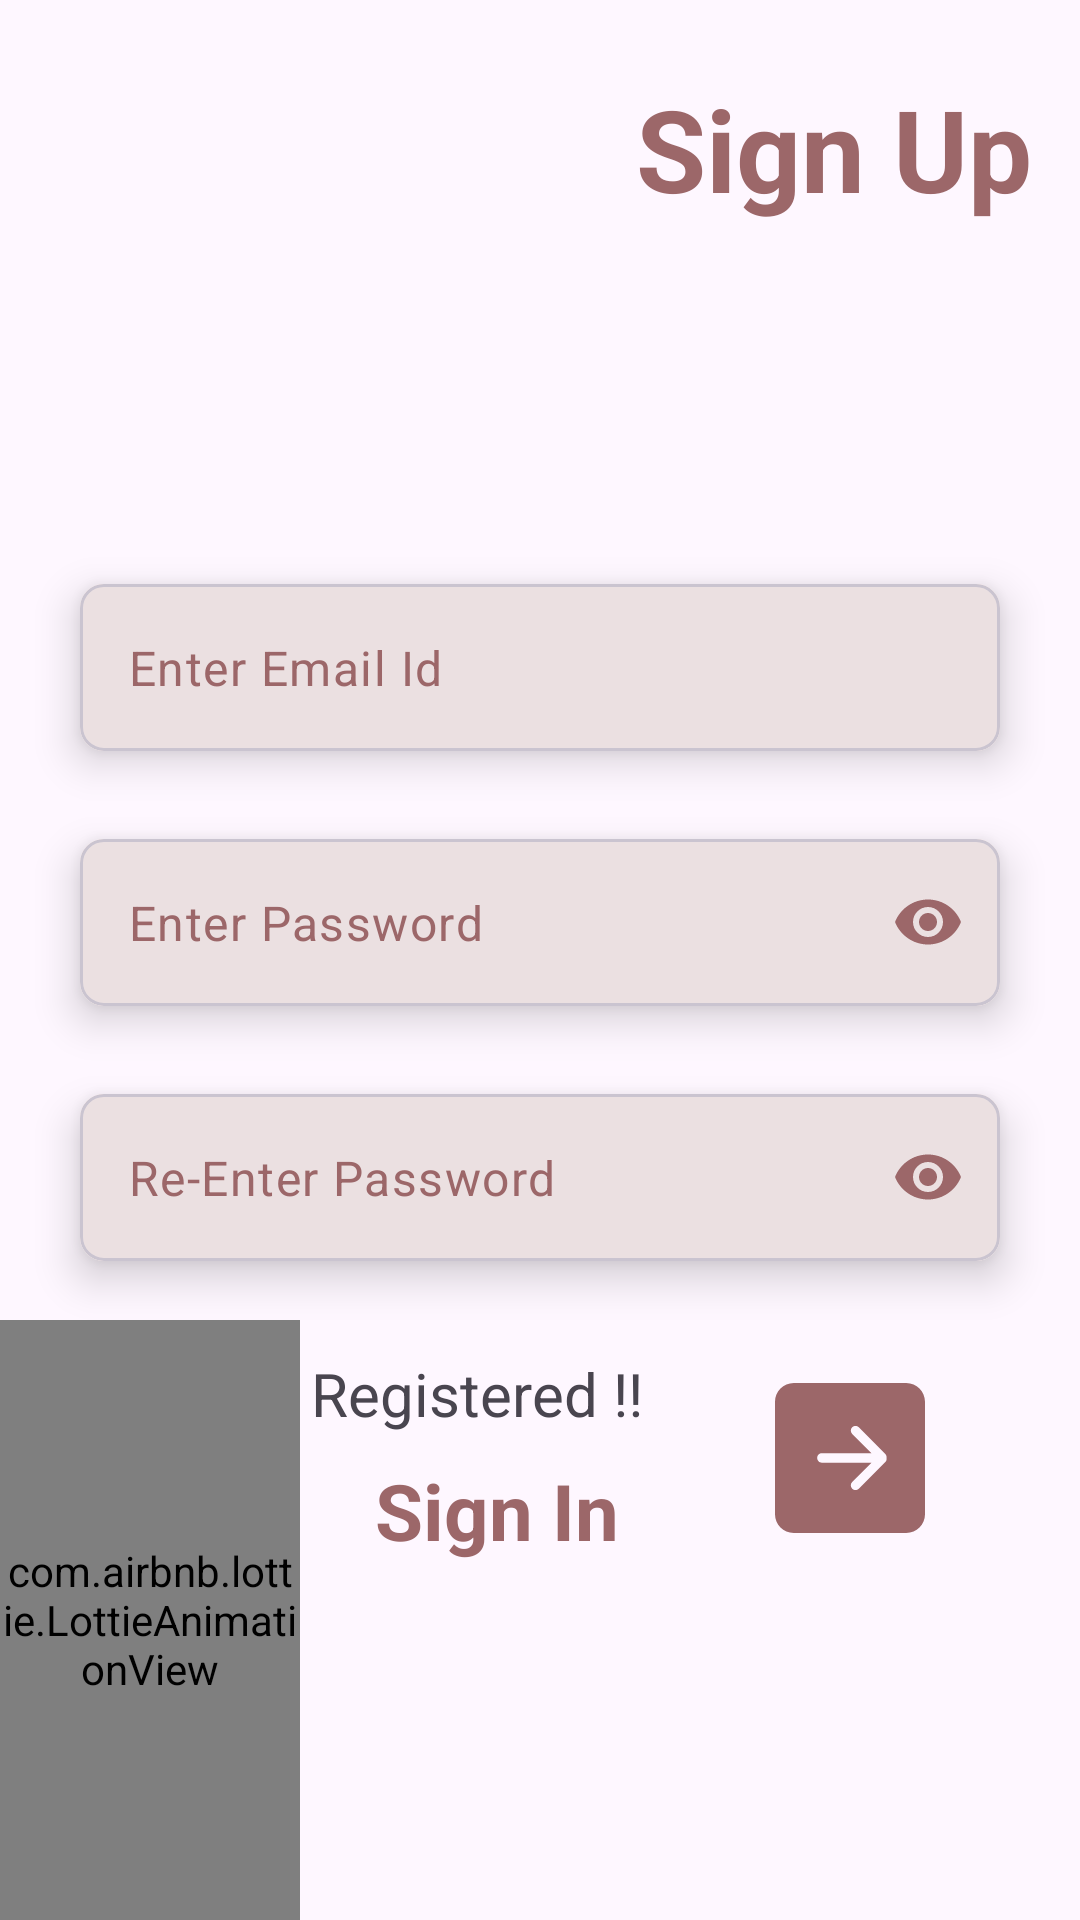

Where to tap for icons on this 1080w x 1920h app screen, as [x,y]:
arrow right: [850,1458]
